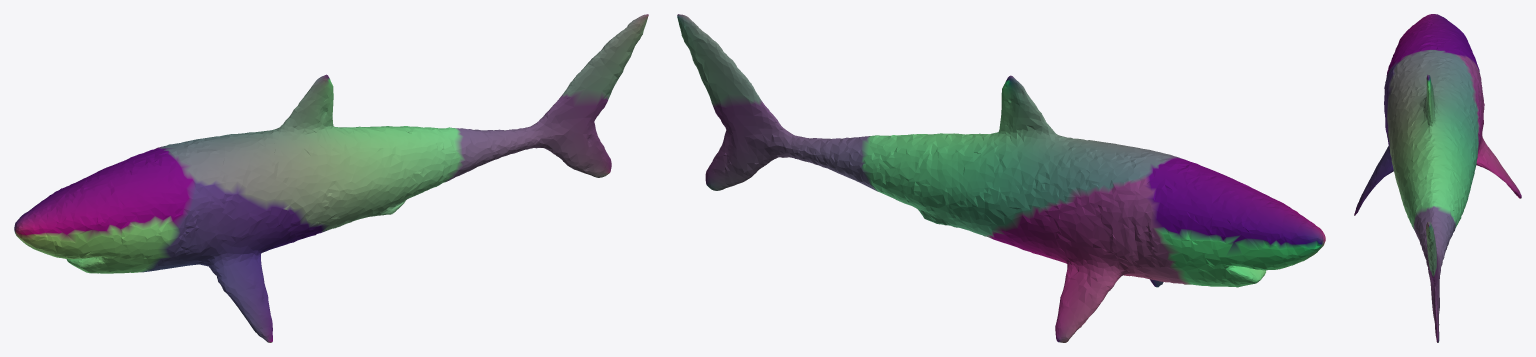
File: shark-11.off.obj
3 renders of one model, left to right at view 1: azimuth 30°, elevation 25°; view 2: azimuth 150°, elevation 25°; view 3: azimuth 270°, elevation 25°, orthographic. The views are drawn at different scales.
Size of the model in its own units: 1.48 by 0.4768 by 0.3999.
